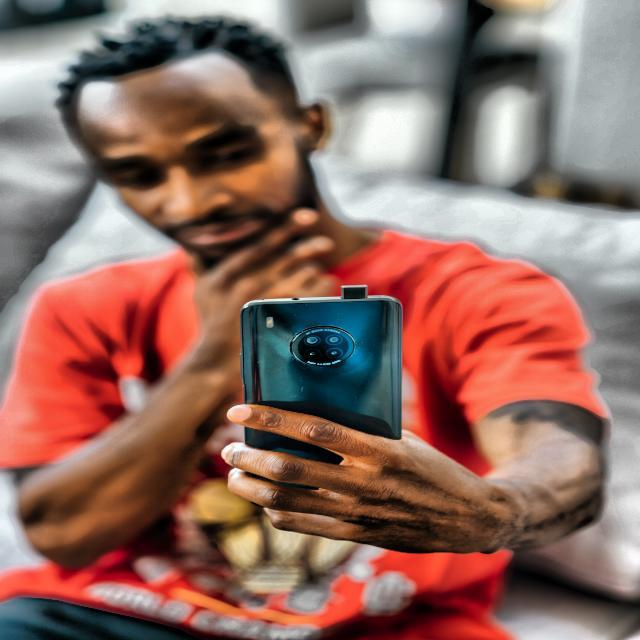Phone: (236, 282, 408, 492)
